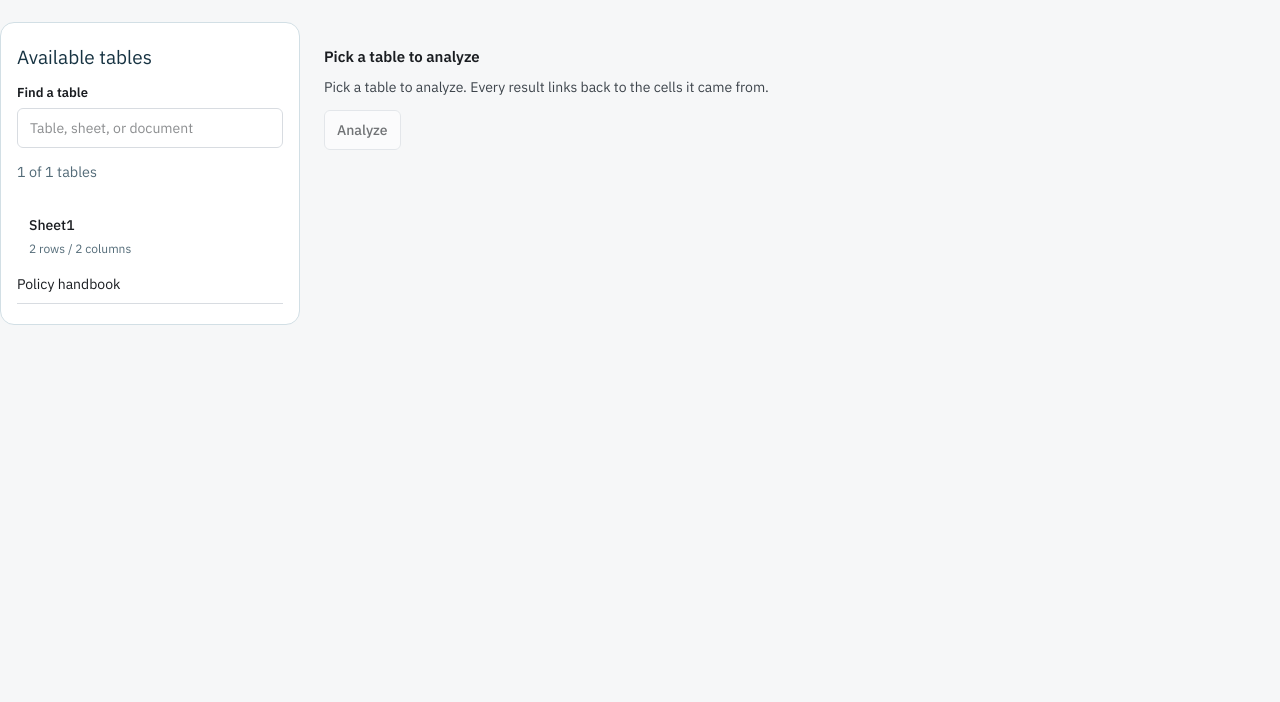
Scenario: TablesApp › renders mixed-direction cells as text and keeps overflow on the table wrap
Click the button "Sheet1 2 rows / 2 columns".
click(52, 225)  # box 17,202 -> 283,270
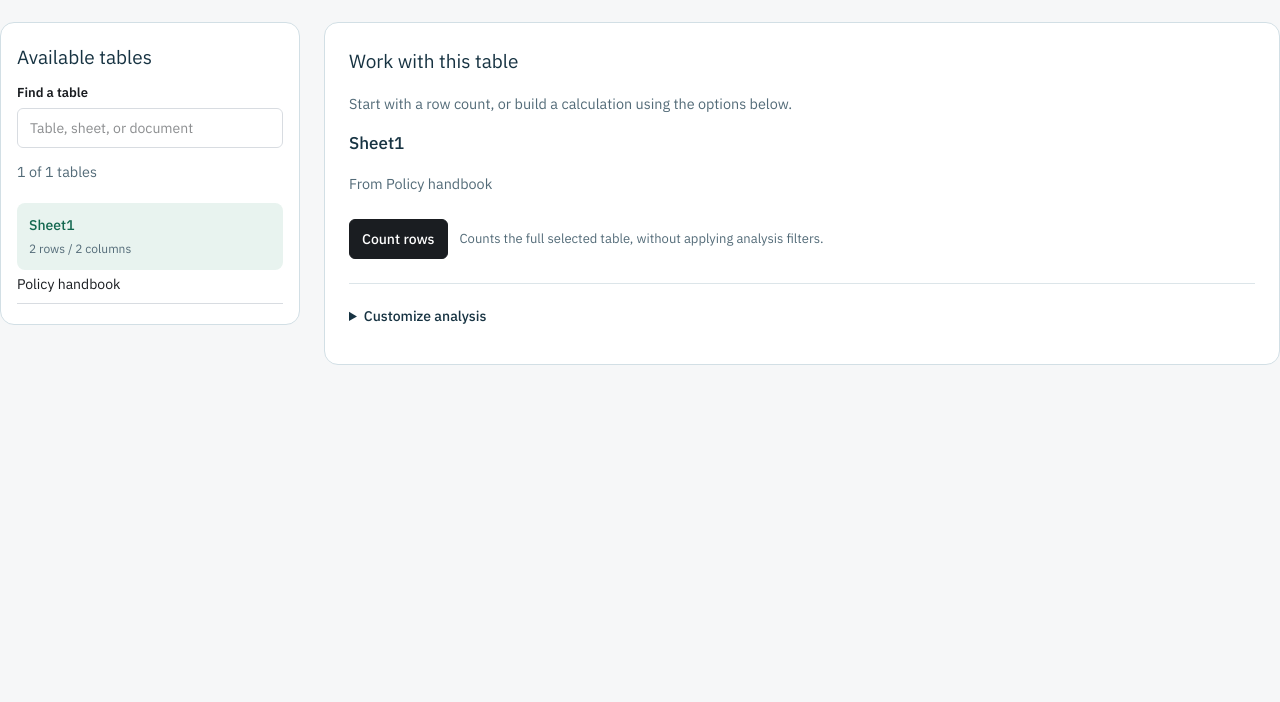
Click the heading "Customize analysis".
click(425, 316)  # box 364,307 -> 486,325
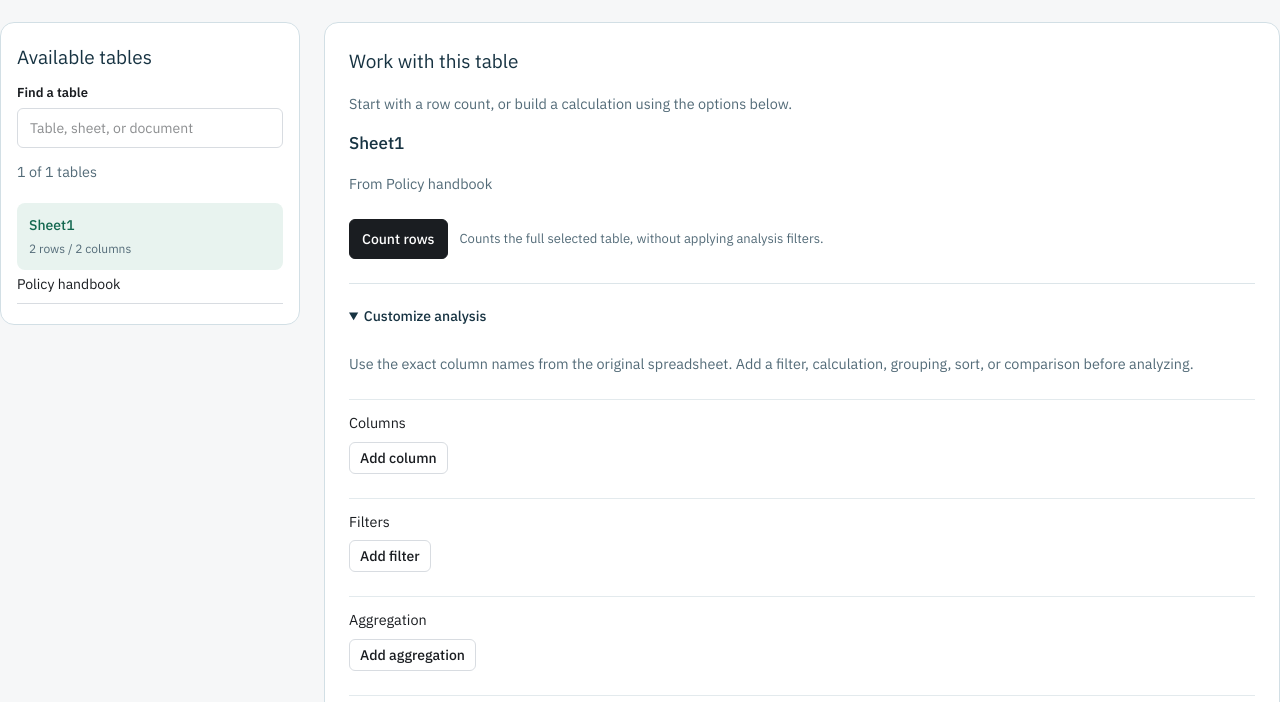
Click the button "Add filter".
click(390, 556)  # box 349,540 -> 431,572
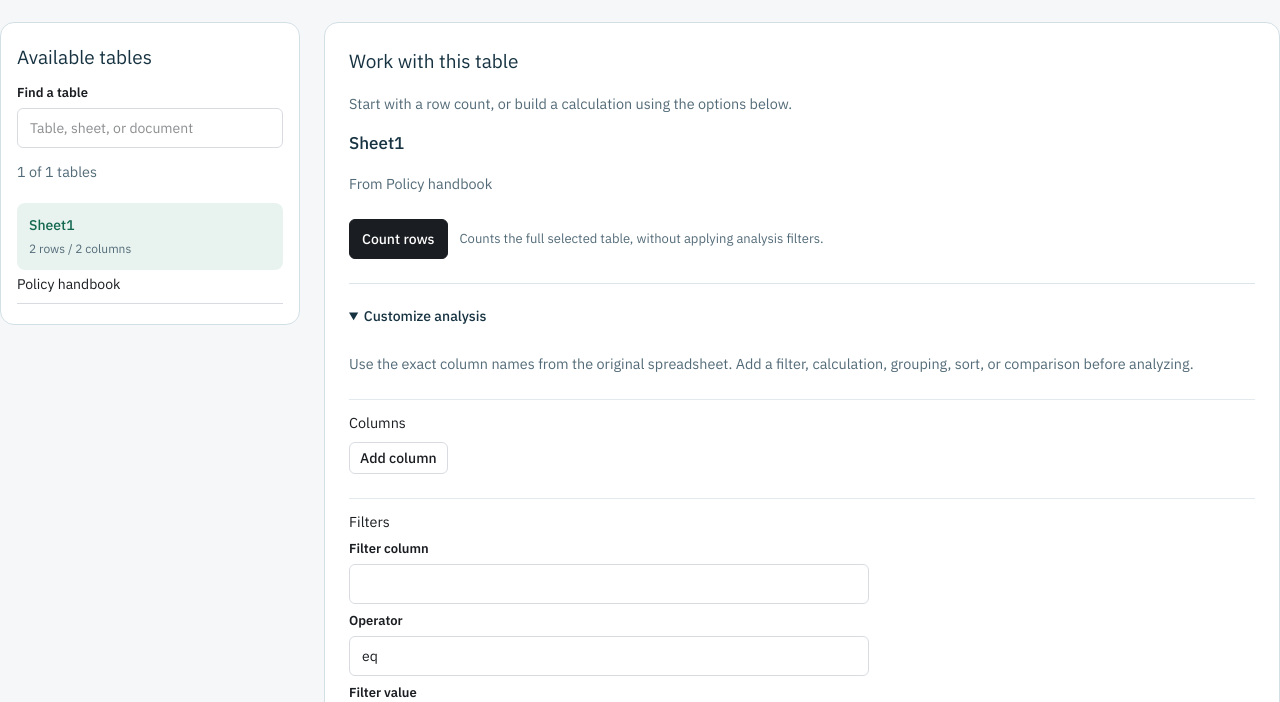
Type "amount" into the field labelled "Filter column".
click(609, 584); type("amount")  # box 349,564 -> 869,604
(page scrolled)
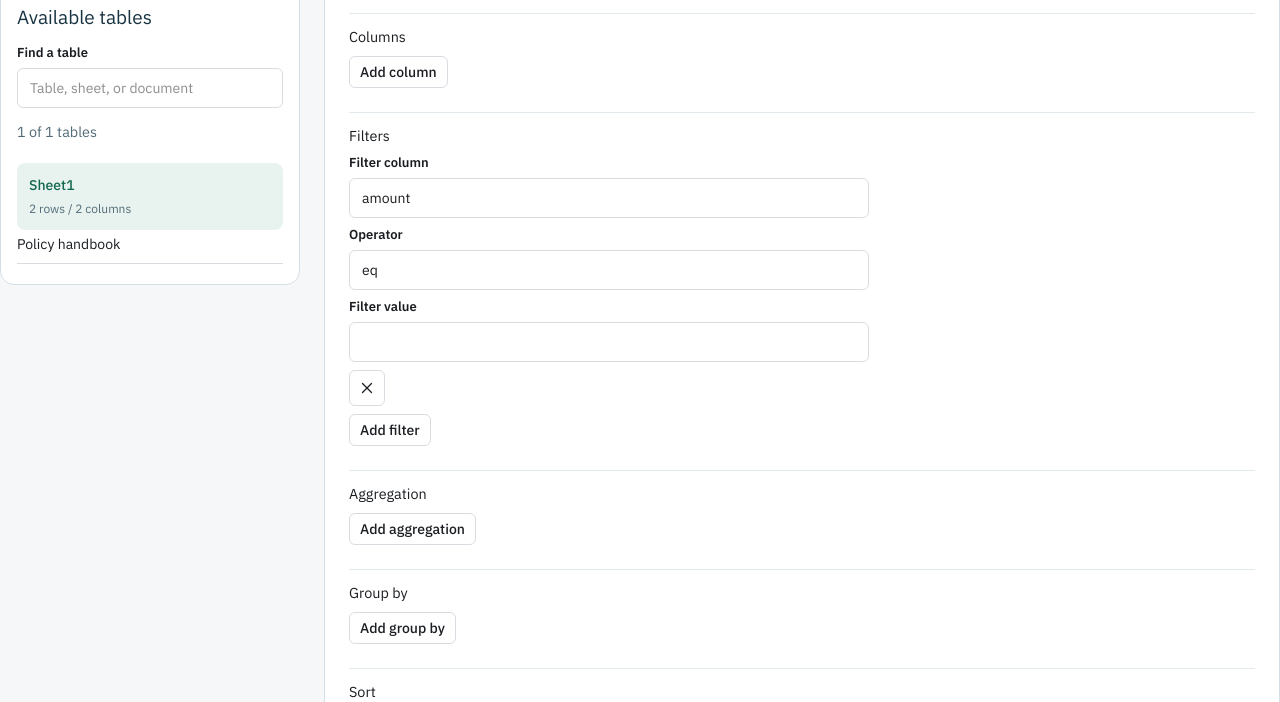
Type "1" into the field labelled "Filter value".
click(609, 342); type("1")  # box 349,322 -> 869,362
(page scrolled)
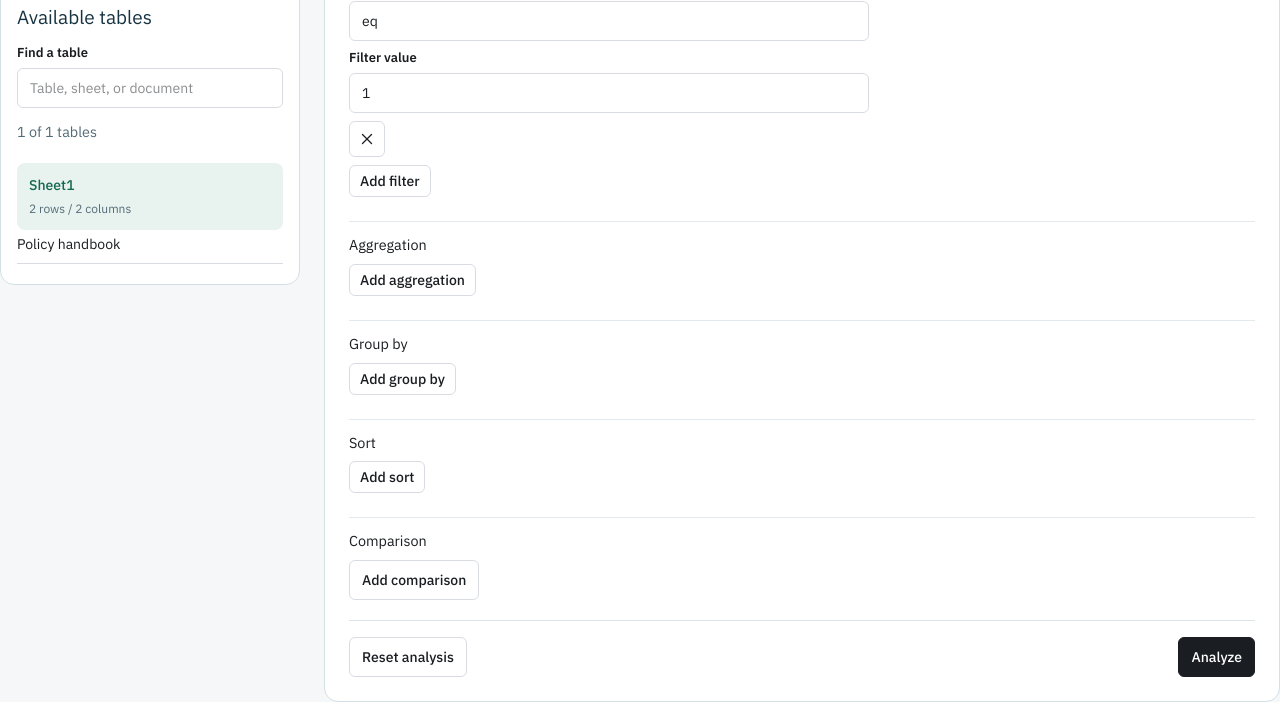
Click the button "Analyze".
click(1217, 657)  # box 1178,637 -> 1255,677
(page scrolled)
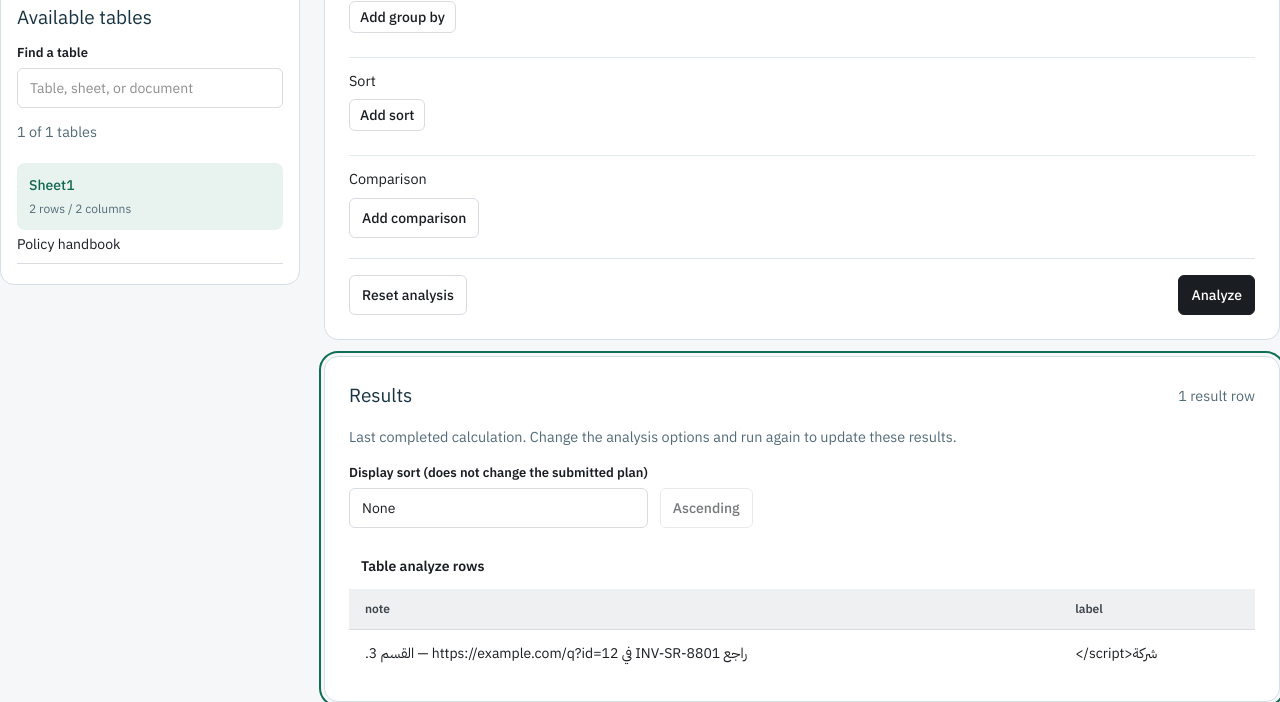
Expected: the text "راجع INV-SR-8801 في https://example.com/q?id=12 — القسم 3." is shown, 365,644 -> 747,662
Expected: the text "</script>شركة" is shown, 1075,644 -> 1157,662
Expected: the table is shown, 349,544 -> 1255,677
